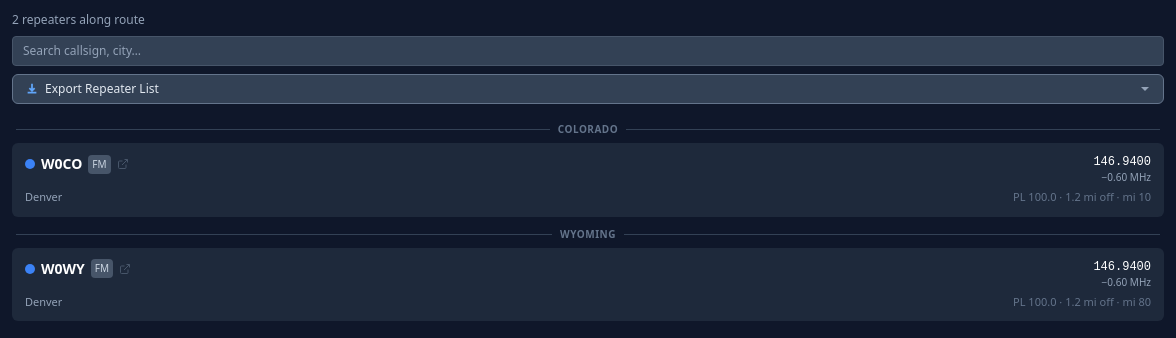
Test: RepeaterList — search › filters by callsign (case-insensitive)
The width and height of the screenshot is (1176, 338).
In the search field with placeholder "Search callsign, city…": (588, 51) x1=12 y1=36 x2=1164 y2=66, type "w0co"
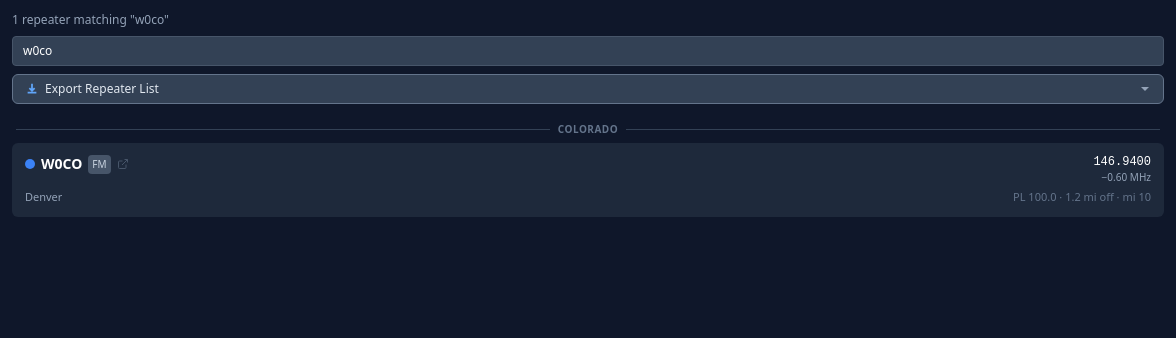
Expected: the text "W0CO" is shown, x1=41 y1=154 x2=82 y2=174
Now the text "W0WY" is gone
